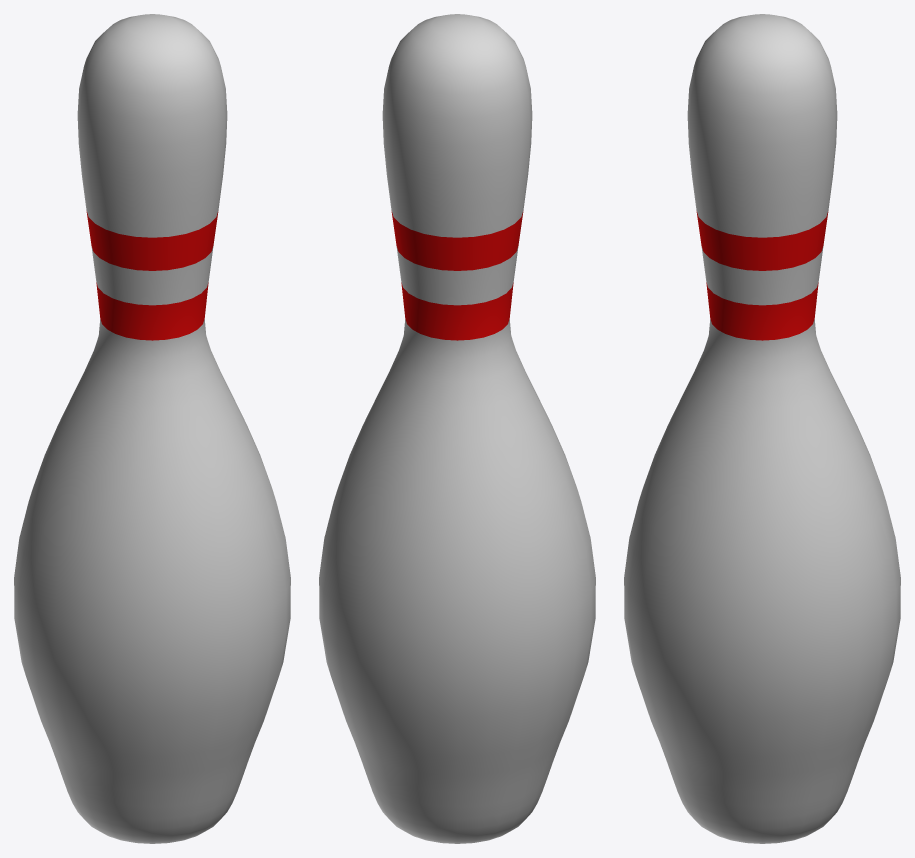
Rendered from bowling pin.fbx.
3 renders of one model, left to right at view 1: azimuth 30°, elevation 25°; view 2: azimuth 150°, elevation 25°; view 3: azimuth 270°, elevation 25°, orthographic.
Parts seen in each view (by area): view 1: pin; view 2: pin; view 3: pin.
Part boxes in pixels (x1=…): pin: x1=14, y1=14, x2=290, y2=843; pin: x1=319, y1=14, x2=595, y2=843; pin: x1=624, y1=14, x2=900, y2=843.
Bounding box in the file's own units: 118 × 380 × 118.
